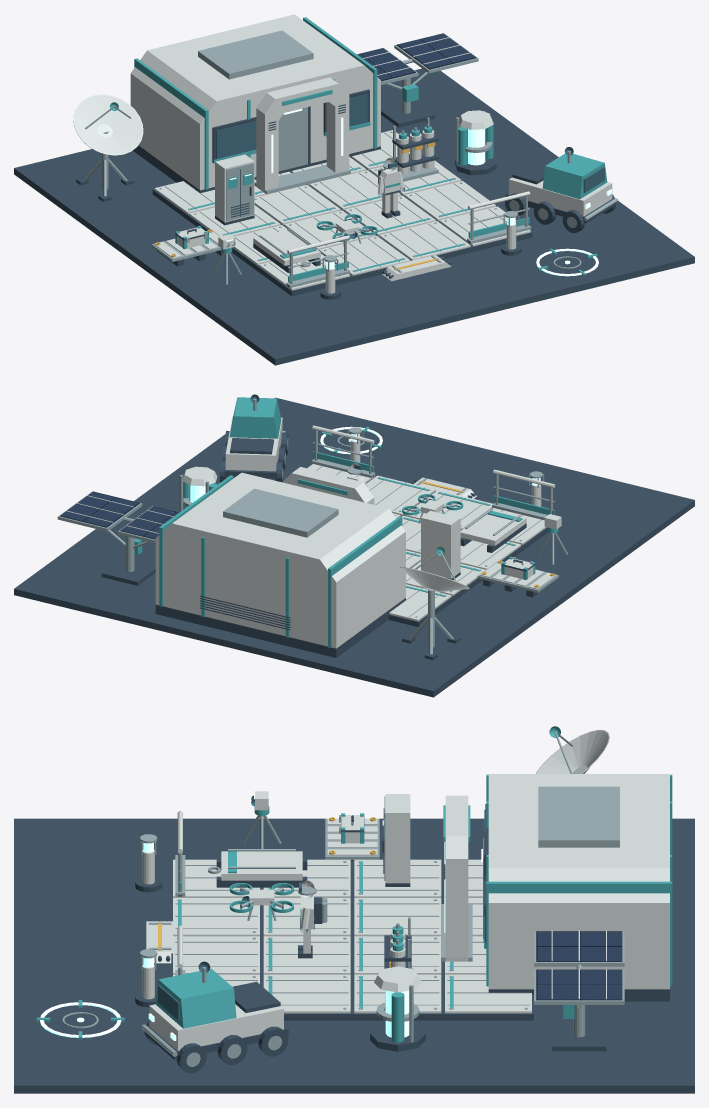
3 renders of one model, top to bottom at view 1: azimuth 30°, elevation 25°; view 2: azimuth 150°, elevation 25°; view 3: azimuth 270°, elevation 25°, orthographic. The views are drawn at different scales.
Parts seen in each view (by area): view 1: terrain-base, 17-orbital-field-station-lab-module/shell, 18-orbital-field-station-airlock-gate/shell, 17-orbital-field-station-lab-module/metal, 20-orbital-field-station-communications-dish/shell, 21-orbital-field-station-solar-array/panel, 17-orbital-field-station-lab-module/accent, 12-orbital-field-station-deck-tile/shell, 06-orbital-field-station-deck-tile/shell, 15-orbital-field-station-deck-tile/shell, 22-orbital-field-station-survey-rover/accent, 08-orbital-field-station-deck-tile/shell (+32 smaller); view 2: terrain-base, 17-orbital-field-station-lab-module/shell, 17-orbital-field-station-lab-module/dark, 17-orbital-field-station-lab-module/metal, 17-orbital-field-station-lab-module/accent, 21-orbital-field-station-solar-array/panel, 24-orbital-field-station-sample-locker/shell, 22-orbital-field-station-survey-rover/accent, 22-orbital-field-station-survey-rover/dark, 18-orbital-field-station-airlock-gate/shell, 12-orbital-field-station-deck-tile/shell, 22-orbital-field-station-survey-rover/shell (+16 smaller); view 3: terrain-base, 17-orbital-field-station-lab-module/shell, 21-orbital-field-station-solar-array/panel, 17-orbital-field-station-lab-module/metal, 18-orbital-field-station-airlock-gate/shell, 17-orbital-field-station-lab-module/accent, 22-orbital-field-station-survey-rover/dark, 22-orbital-field-station-survey-rover/accent, 06-orbital-field-station-deck-tile/shell, 15-orbital-field-station-deck-tile/shell, 11-orbital-field-station-deck-tile/shell, 22-orbital-field-station-survey-rover/shell (+33 smaller).
Boxes of the visible parts, x1,y1,x2,y2 form: terrain-base: [14, 68, 694, 365]; 17-orbital-field-station-lab-module/shell: [130, 14, 380, 190]; 18-orbital-field-station-airlock-gate/shell: [256, 77, 349, 192]; 17-orbital-field-station-lab-module/metal: [198, 30, 313, 171]; 20-orbital-field-station-communications-dish/shell: [73, 94, 143, 155]; 21-orbital-field-station-solar-array/panel: [357, 33, 476, 81]; 17-orbital-field-station-lab-module/accent: [134, 17, 377, 189]; 12-orbital-field-station-deck-tile/shell: [379, 221, 470, 260]; 06-orbital-field-station-deck-tile/shell: [254, 185, 340, 224]; 15-orbital-field-station-deck-tile/shell: [405, 181, 495, 220]; 22-orbital-field-station-survey-rover/accent: [542, 153, 607, 199]; 08-orbital-field-station-deck-tile/shell: [319, 236, 410, 275]; terrain-base: [14, 397, 694, 697]; 17-orbital-field-station-lab-module/shell: [155, 472, 405, 648]; 17-orbital-field-station-lab-module/dark: [155, 595, 405, 657]; 17-orbital-field-station-lab-module/metal: [223, 488, 338, 537]; 17-orbital-field-station-lab-module/accent: [159, 475, 402, 647]; 21-orbital-field-station-solar-array/panel: [60, 491, 179, 539]; 24-orbital-field-station-sample-locker/shell: [421, 510, 460, 578]; 22-orbital-field-station-survey-rover/accent: [229, 397, 281, 438]; 22-orbital-field-station-survey-rover/dark: [220, 430, 288, 482]; 18-orbital-field-station-airlock-gate/shell: [282, 467, 374, 504]; 12-orbital-field-station-deck-tile/shell: [366, 475, 435, 515]; 22-orbital-field-station-survey-rover/shell: [225, 416, 282, 471]; terrain-base: [14, 818, 694, 1093]; 17-orbital-field-station-lab-module/shell: [488, 774, 669, 989]; 21-orbital-field-station-solar-array/panel: [536, 931, 622, 1000]; 17-orbital-field-station-lab-module/metal: [483, 786, 619, 938]; 18-orbital-field-station-airlock-gate/shell: [445, 795, 468, 961]; 17-orbital-field-station-lab-module/accent: [484, 774, 672, 986]; 22-orbital-field-station-survey-rover/dark: [144, 981, 288, 1073]; 22-orbital-field-station-survey-rover/accent: [156, 968, 236, 1028]; 06-orbital-field-station-deck-tile/shell: [354, 898, 441, 936]; 15-orbital-field-station-deck-tile/shell: [263, 974, 350, 1013]; 11-orbital-field-station-deck-tile/shell: [263, 936, 350, 974]; 22-orbital-field-station-survey-rover/shell: [149, 1004, 283, 1050].
Bounding box in the file's own units: 13.93 × 3.38 × 15.02.
Materials: 8 (1 with a texture image).
